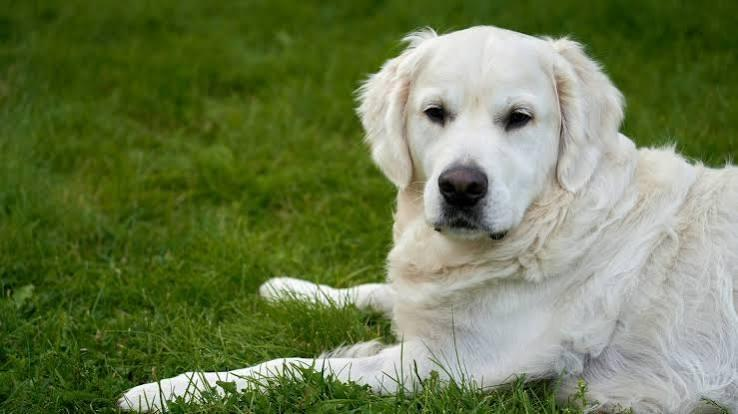adult_dog: (123, 25, 738, 414)
